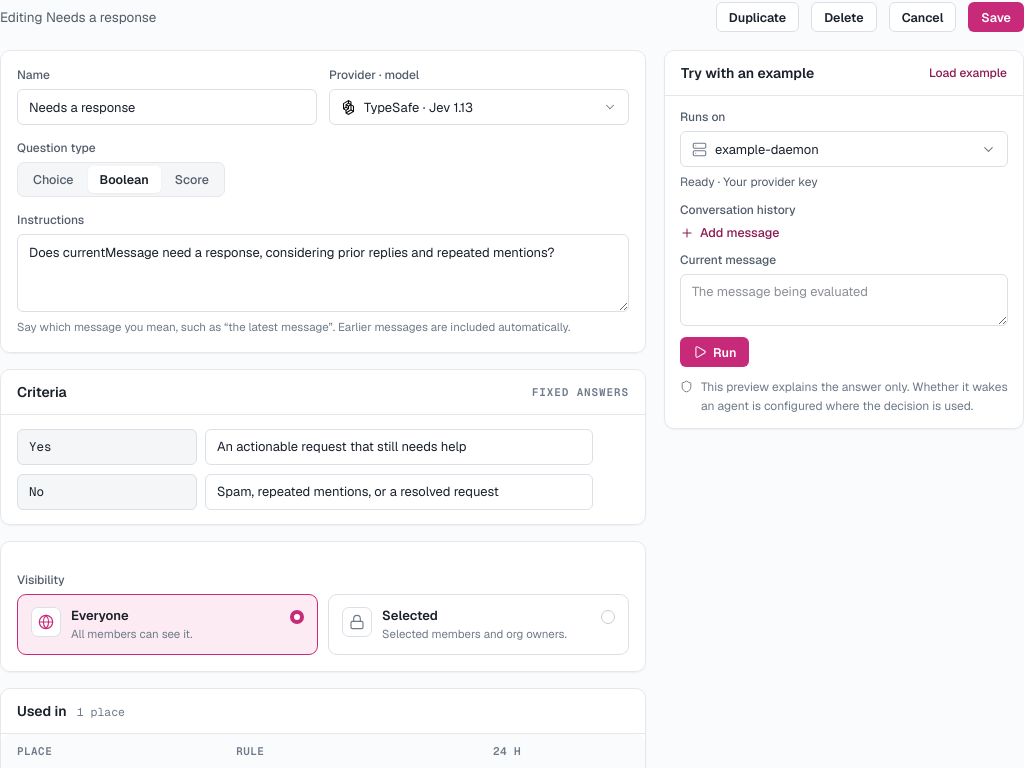
DecisionEditorView › renders a 409 delete refusal with its linked usages and the hidden count
The image size is (1024, 768).
Click the button "Delete". click: x=844, y=17
box: [811,2,877,32]
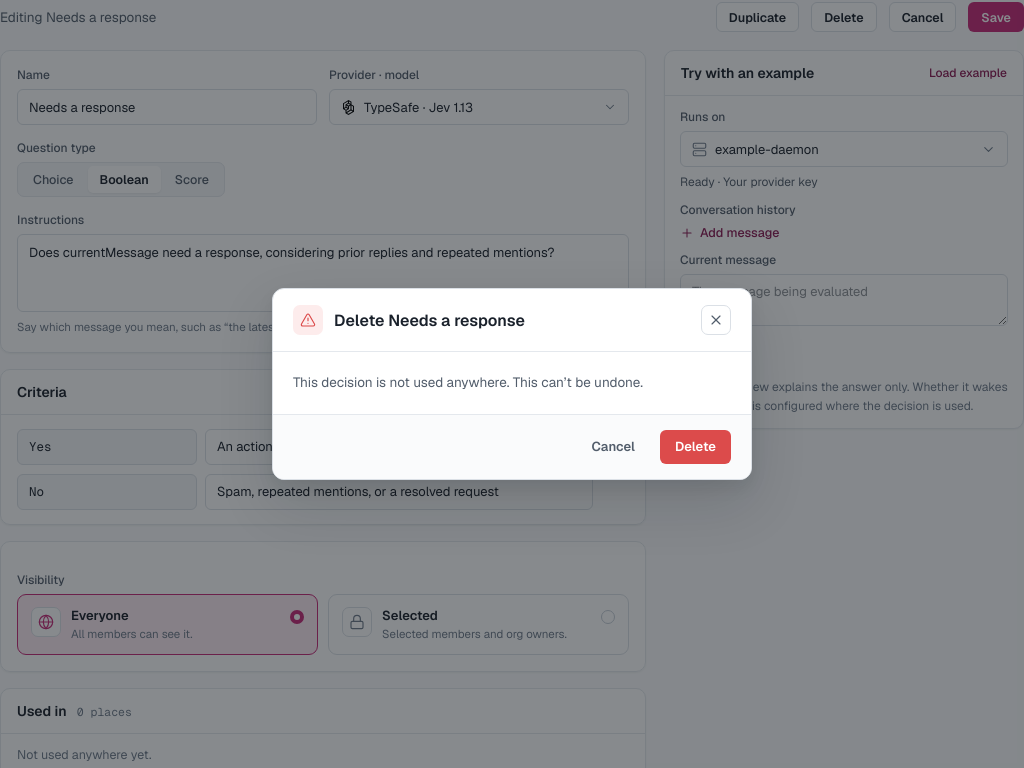
Expected: the dialog shows "This decision is not used anywhere. This can’t be undone.", [293,373,643,391]
Click the button "Delete". click: x=695, y=447
box: [660,430,731,464]
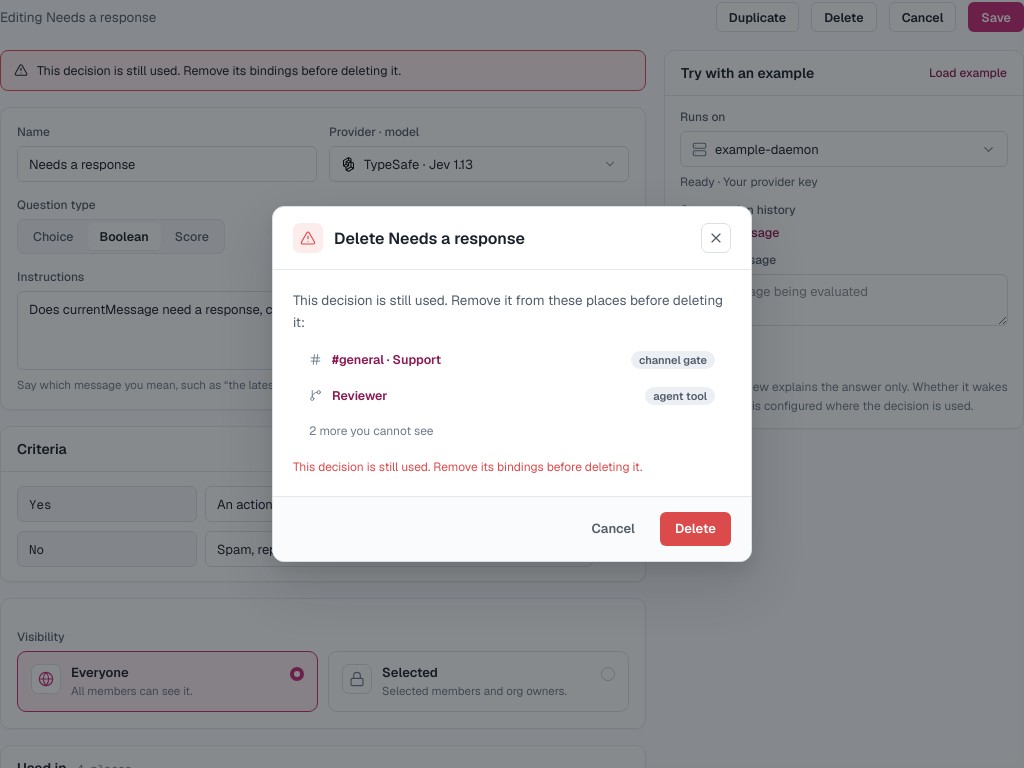
Expected: the dialog shows "2 more you cannot see", [309,423,434,439]
Expected: the dialog shows "This decision is still used. Remove its bindings before deleting it.", [293,459,642,475]
